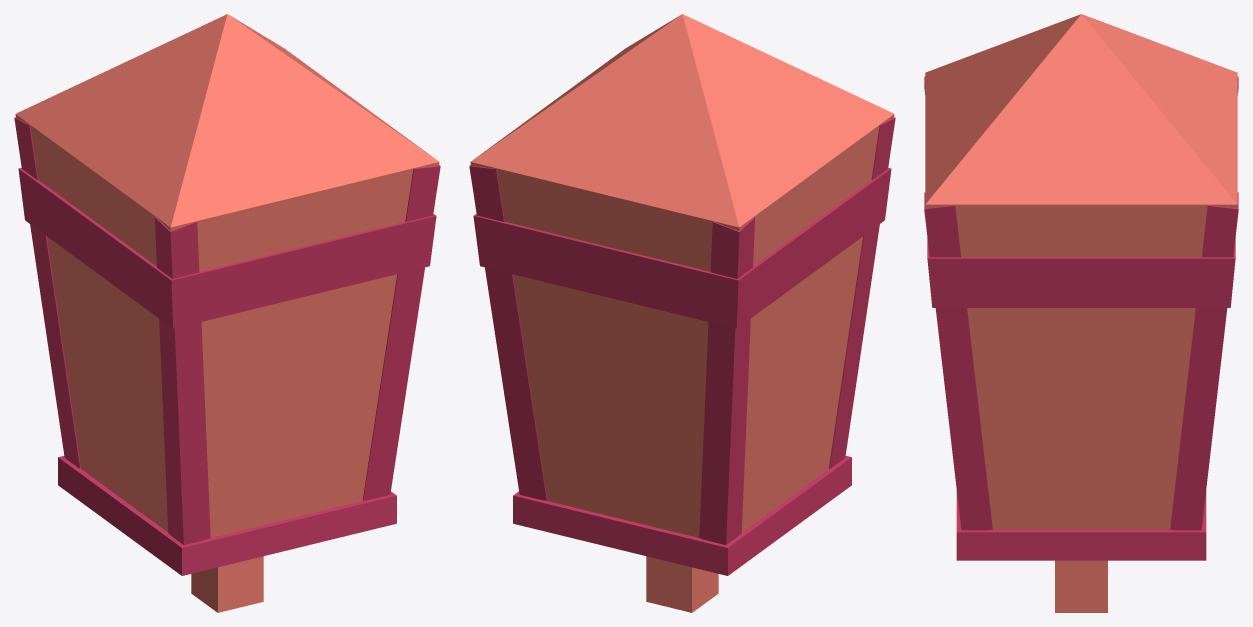
Rendered from lantern_lit.glb.
The picture shows the model from 3 angles, left to right: view 1: azimuth 30°, elevation 25°; view 2: azimuth 150°, elevation 25°; view 3: azimuth 270°, elevation 25°; orthographic projection.
Visible parts, largest first — view 1: Lantern; view 2: Lantern; view 3: Lantern.
Boxes of the visible parts, left/top/right/bottom form: Lantern: left=14, top=14, right=440, bottom=612; Lantern: left=469, top=14, right=895, bottom=612; Lantern: left=924, top=14, right=1238, bottom=612.
Bounding box in the file's own units: 0.4436 × 0.914 × 0.4434.
